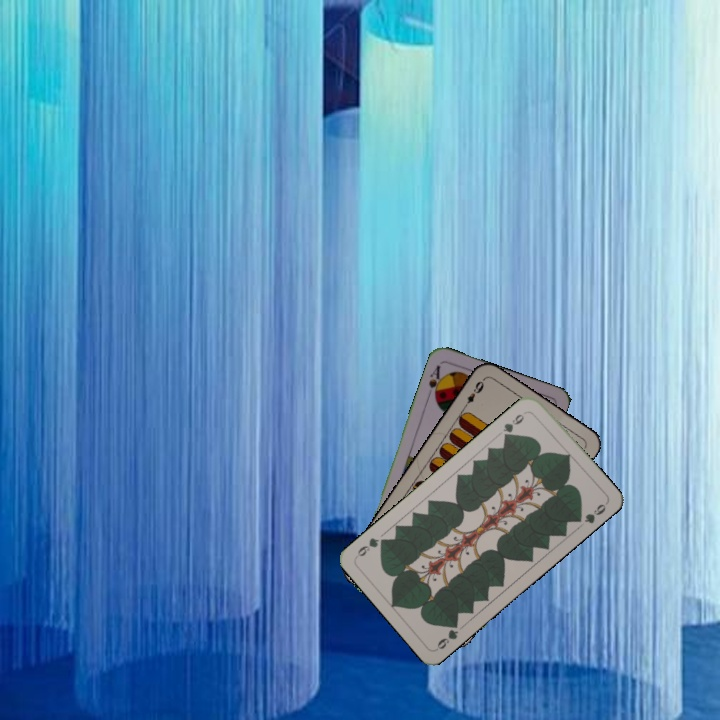E9: (459, 375, 487, 411)
G9: (432, 617, 461, 653), (498, 410, 527, 441)
SA: (424, 361, 446, 401)
